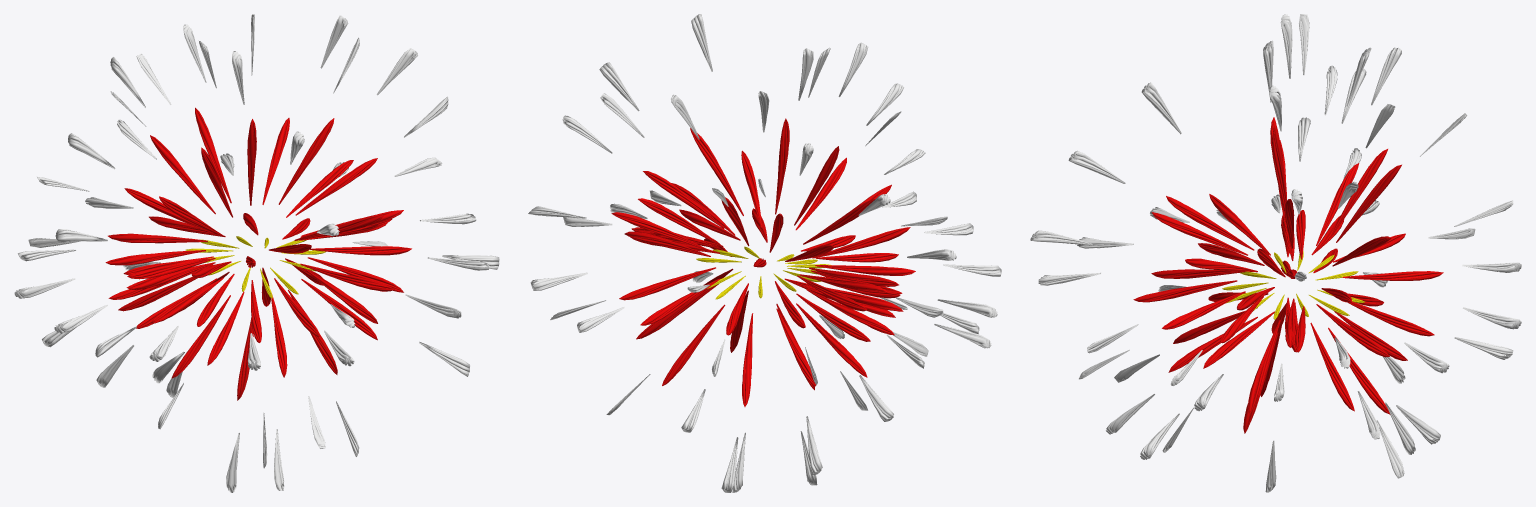
File: ヒットエフェクト3.fbx
3 views of the same model, side by side, from view 1: azimuth 30°, elevation 25°; view 2: azimuth 150°, elevation 25°; view 3: azimuth 270°, elevation 25° (orthographic). The views are drawn at different scales.
Parts seen in each view (by area): view 1: 切り札.004, 切り札.001, 切り札, 切り札.008, 切り札.010, 切り札.005, 切り札.007, 切り札.003, 切り札.002; view 2: 切り札.001, 切り札.003, 切り札, 切り札.004, 切り札.007, 切り札.008, 切り札.005, 切り札.010, 切り札.002; view 3: 切り札, 切り札.004, 切り札.003, 切り札.005, 切り札.007, 切り札.010, 切り札.008, 切り札.001, 切り札.002.
Boxes of the visible parts, x1=… form: 切り札.004: x1=123, y1=107, x2=403, y2=377; 切り札.001: x1=127, y1=118, x2=392, y2=400; 切り札: x1=105, y1=213, x2=411, y2=342; 切り札.008: x1=55, y1=14, x2=499, y2=468; 切り札.010: x1=14, y1=153, x2=489, y2=370; 切り札.005: x1=117, y1=24, x2=355, y2=492; 切り札.007: x1=18, y1=15, x2=442, y2=397; 切り札.003: x1=108, y1=210, x2=403, y2=311; 切り札.002: x1=185, y1=236, x2=325, y2=298; 切り札.001: x1=632, y1=118, x2=898, y2=390; 切り札.003: x1=630, y1=150, x2=910, y2=406; 切り札: x1=619, y1=208, x2=915, y2=335; 切り札.004: x1=611, y1=197, x2=903, y2=317; 切り札.007: x1=528, y1=14, x2=947, y2=492; 切り札.008: x1=562, y1=93, x2=997, y2=356; 切り札.005: x1=681, y1=42, x2=925, y2=492; 切り札.010: x1=530, y1=178, x2=1001, y2=385; 切り札.002: x1=696, y1=246, x2=831, y2=299; 切り札: x1=1133, y1=215, x2=1443, y2=357; 切り札.004: x1=1168, y1=149, x2=1401, y2=372; 切り札.003: x1=1151, y1=194, x2=1407, y2=414; 切り札.005: x1=1030, y1=40, x2=1513, y2=492; 切り札.007: x1=1269, y1=14, x2=1415, y2=478; 切り札.010: x1=1038, y1=194, x2=1521, y2=401; 切り札.008: x1=1106, y1=47, x2=1401, y2=459; 切り札.001: x1=1243, y1=117, x2=1297, y2=433; 切り札.002: x1=1222, y1=251, x2=1364, y2=319.
Bounding box in the file's own units: 1995 × 2050 × 1961.
